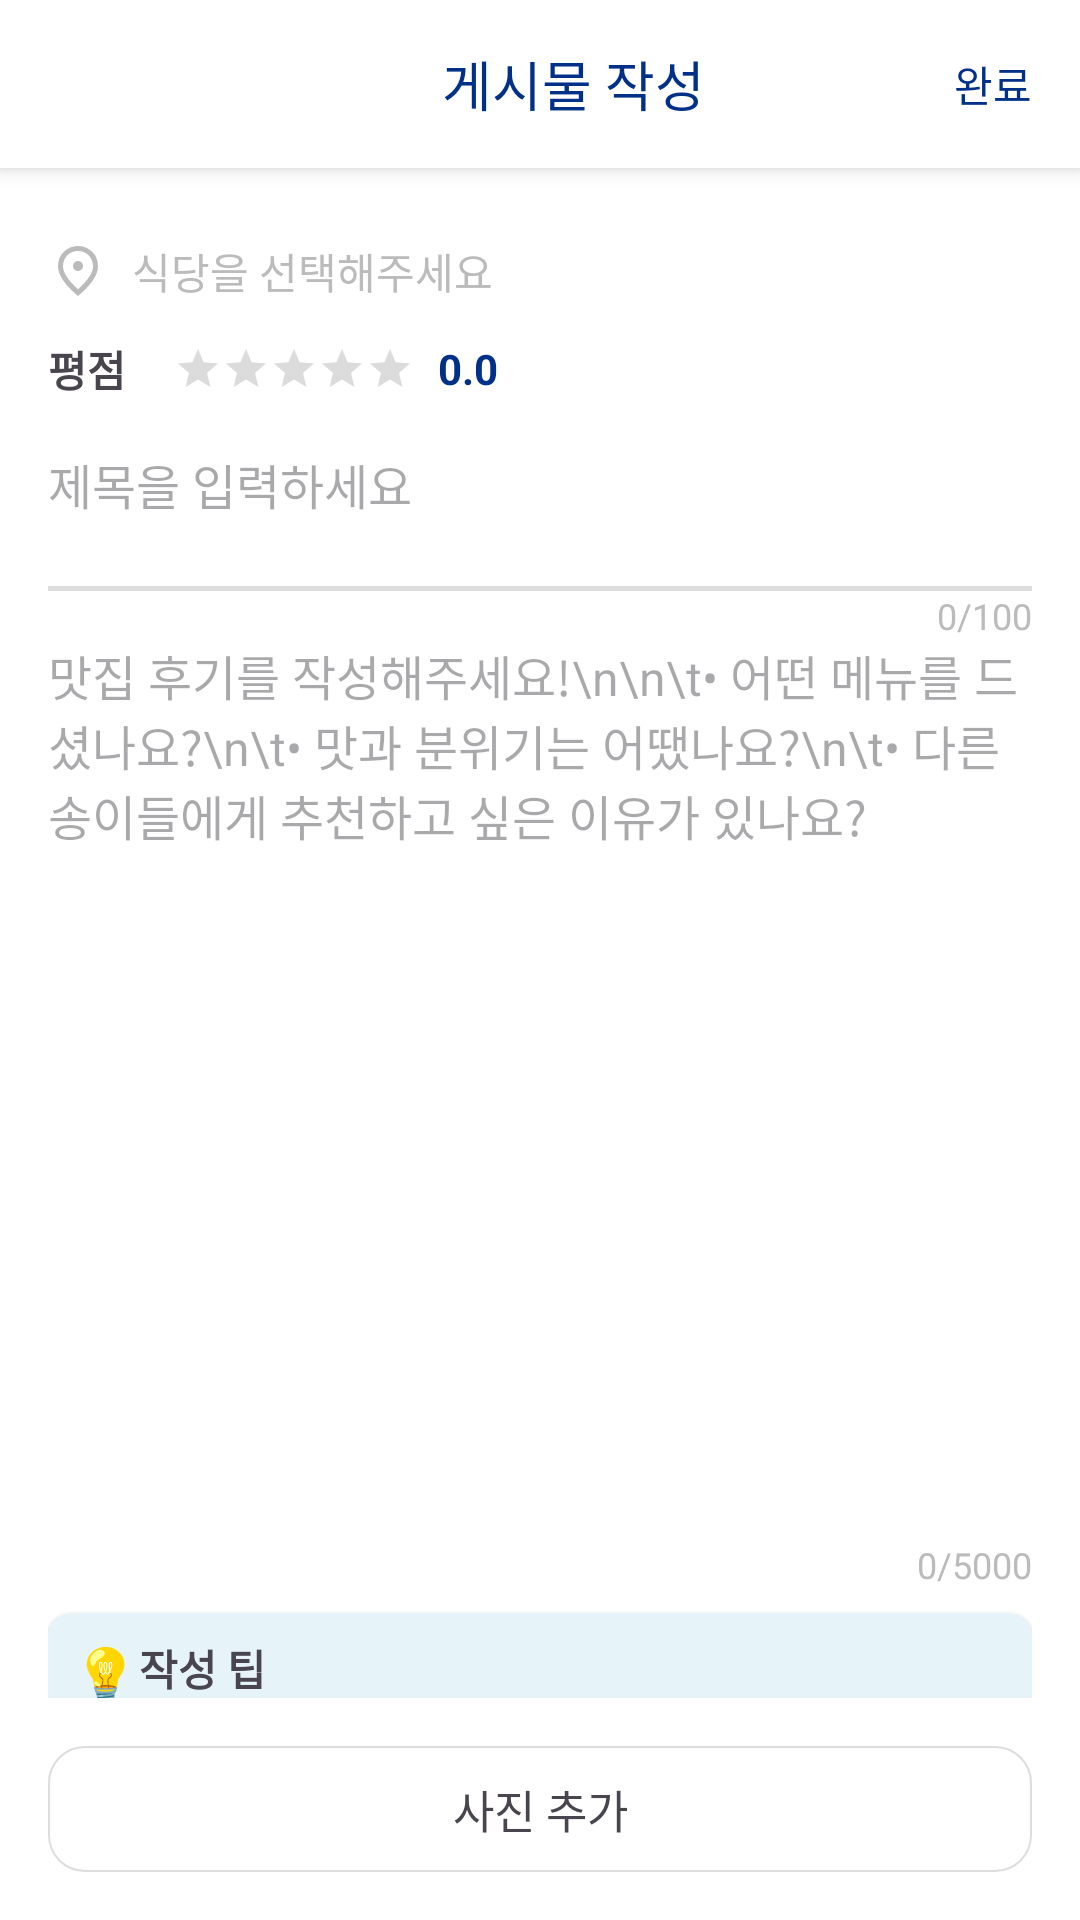

Where icons sit on this 1080*1920 app screen, as (x1, y1, x2, y2):
location: (58, 246, 98, 296)
